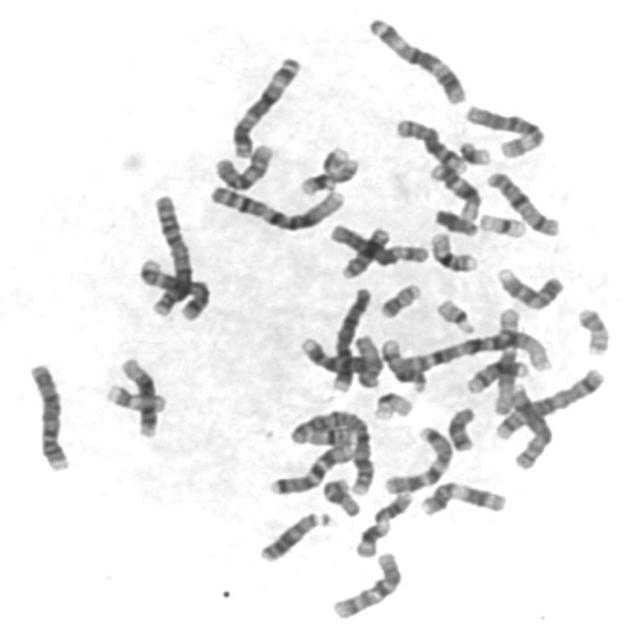A1: (392, 326, 557, 378), (203, 178, 348, 233)
A2: (283, 403, 377, 498), (143, 188, 195, 319)
A3: (362, 10, 470, 106), (225, 50, 304, 159)
B4: (22, 356, 72, 473), (326, 282, 374, 394)
B5: (489, 362, 607, 442), (133, 252, 213, 322)
C10: (325, 546, 405, 622), (208, 138, 278, 192)
C11: (350, 486, 416, 560), (414, 476, 510, 518)
C12: (114, 352, 161, 438), (425, 157, 483, 222)
C6: (324, 218, 432, 268), (459, 98, 546, 160)
C7: (377, 420, 456, 495), (263, 436, 357, 496)
C8: (389, 112, 468, 175), (503, 379, 554, 472)
C9: (295, 330, 382, 383), (490, 261, 566, 312)
D13: (253, 505, 336, 564), (336, 221, 393, 280)
D14: (376, 334, 430, 394), (461, 354, 530, 396)
D15: (348, 329, 383, 389), (491, 352, 520, 417)
E16: (424, 225, 480, 274), (305, 426, 358, 447)
E17: (100, 378, 168, 414), (315, 140, 361, 184)
E18: (317, 473, 362, 518), (441, 400, 478, 453)
F19: (474, 207, 529, 240), (368, 386, 416, 422)
F20: (572, 301, 614, 357), (374, 276, 424, 321)
G21: (454, 134, 494, 167), (298, 172, 338, 197)
G22: (430, 292, 479, 336), (499, 305, 522, 349)
X: (482, 165, 563, 238)
Y: (428, 202, 480, 238)
